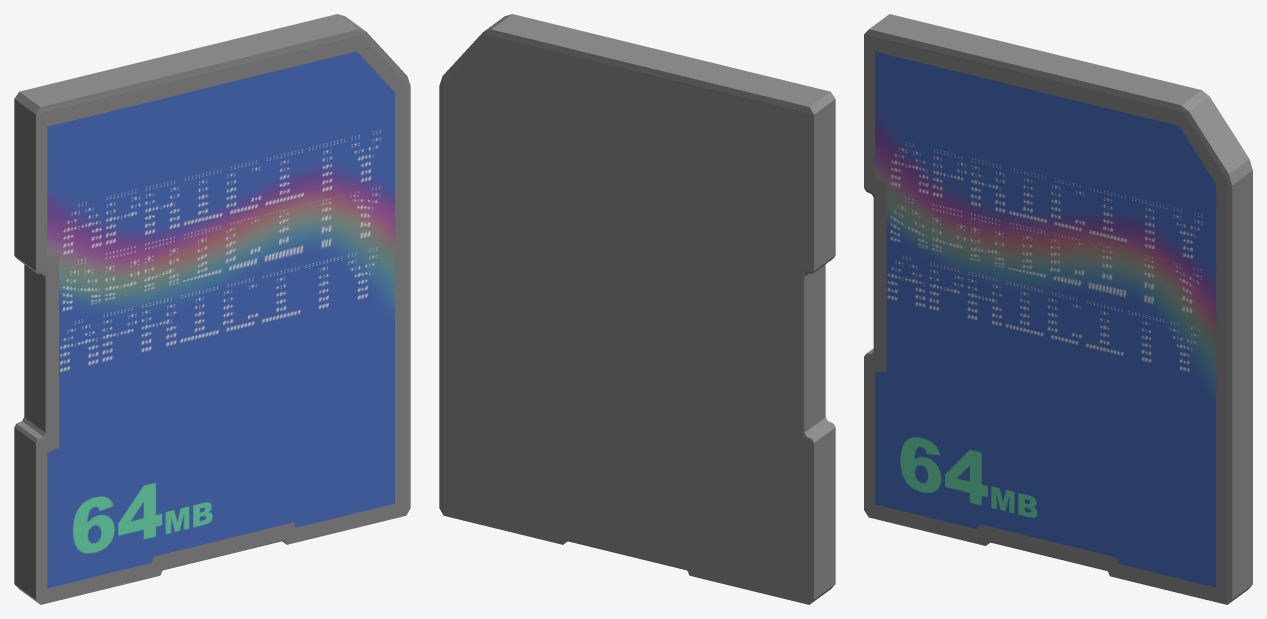
The model's file is apricity.gltf.
3 renders of one model, left to right at view 1: azimuth 30°, elevation 25°; view 2: azimuth 150°, elevation 25°; view 3: azimuth 330°, elevation 25°, orthographic.
Parts seen in each view (by area): view 1: sdcard; view 2: sdcard; view 3: sdcard.
Part boxes in pixels (left/top/right/bottom): sdcard: left=14, top=14, right=410, bottom=604; sdcard: left=439, top=14, right=835, bottom=604; sdcard: left=864, top=14, right=1252, bottom=604.
Bounding box in the file's own units: 2.39 × 3.03 × 0.2392.
Materials: 2 (1 with a texture image).
